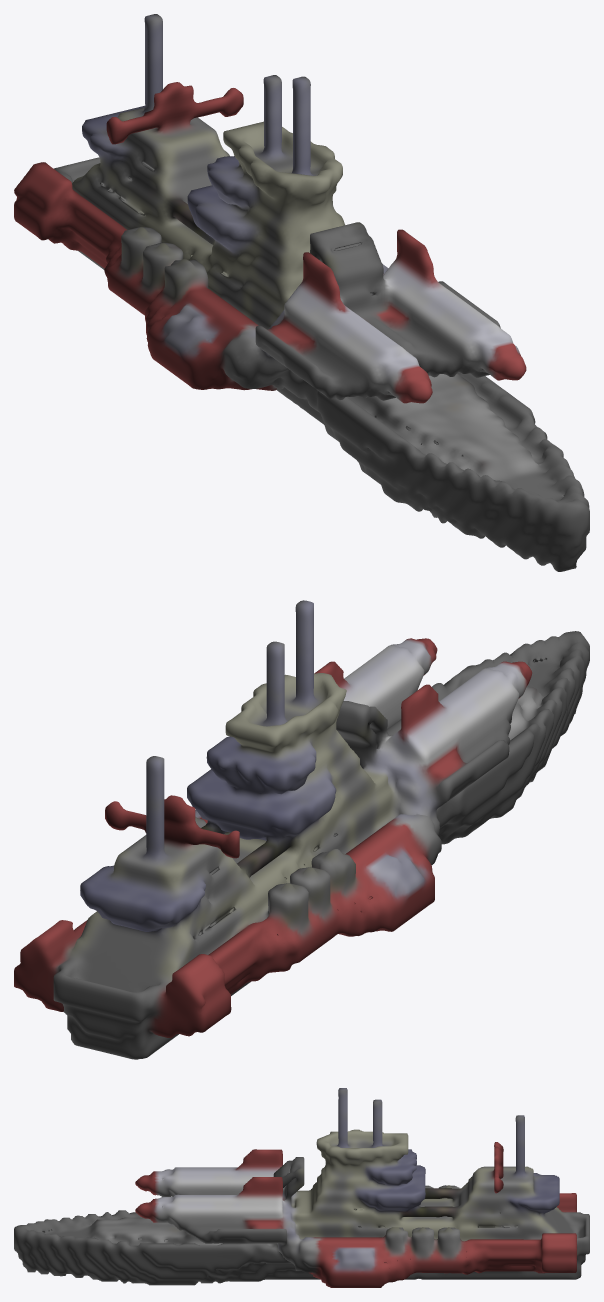
The model's file is dreadnought.glb.
3 renders of one model, top to bottom at view 1: azimuth 30°, elevation 25°; view 2: azimuth 150°, elevation 25°; view 3: azimuth 270°, elevation 25°, orthographic. The views are drawn at different scales.
Parts seen in each view (by area): view 1: dreadnought; view 2: dreadnought; view 3: dreadnought.
Boxes of the visible parts, x1,y1,x2,y2 form: dreadnought: [14, 14, 589, 571]; dreadnought: [14, 600, 589, 1059]; dreadnought: [14, 1088, 589, 1287].
Size of the model in its own units: 3.18 by 3.83 by 11.07.
